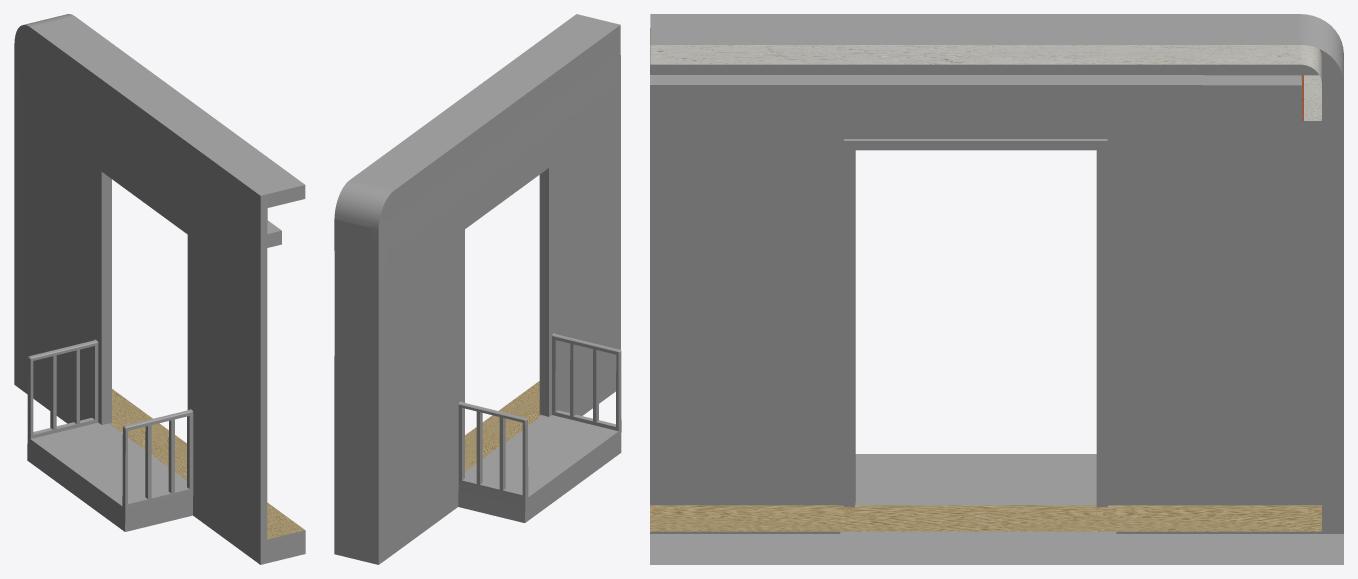
Rendered from interiorEnd.fbx.
3 views of the same model, side by side, from view 1: azimuth 30°, elevation 25°; view 2: azimuth 150°, elevation 25°; view 3: azimuth 270°, elevation 25° (orthographic). The views are drawn at different scales.
Parts seen in each view (by area): view 1: InteriorEnd; view 2: InteriorEnd; view 3: InteriorEnd.
Part boxes in pixels (x1,y1,x2,y2): InteriorEnd: (14, 14, 305, 564); InteriorEnd: (334, 14, 621, 564); InteriorEnd: (650, 14, 1343, 564).
Bounding box in the file's own units: 2.04 × 6.37 × 7.71.
5 materials, 3 textured.
